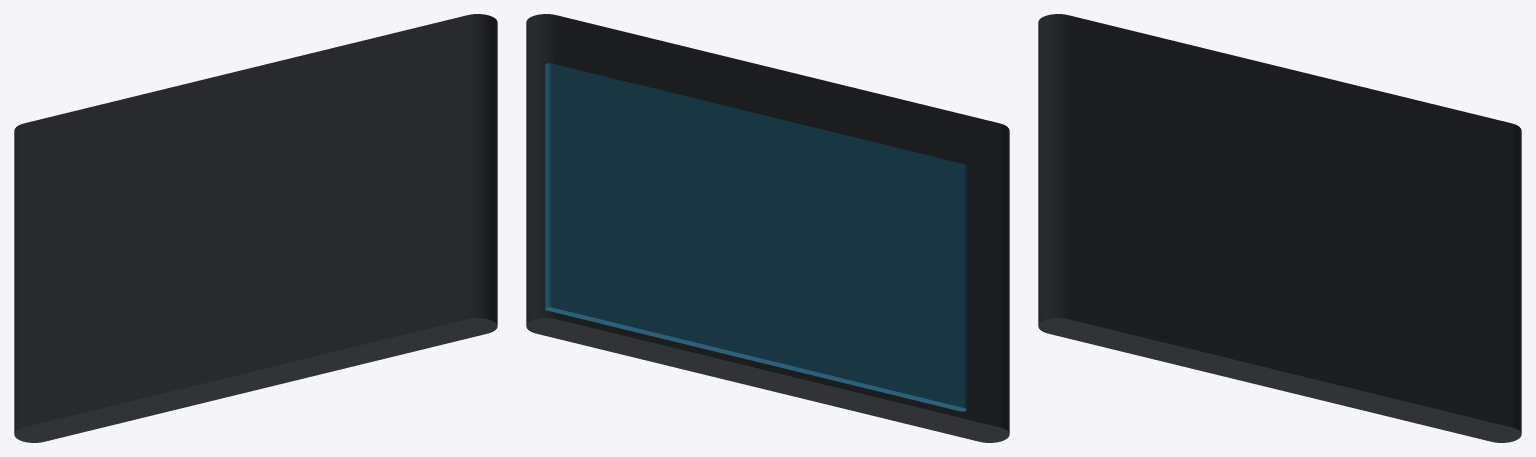
3 views of the same model, side by side, from view 1: azimuth 30°, elevation 25°; view 2: azimuth 150°, elevation 25°; view 3: azimuth 330°, elevation 25° (orthographic).
Parts seen in each view (by area): view 1: TVFrame; view 2: TVScreen, TVFrame; view 3: TVFrame.
Boxes of the visible parts, x1,y1,x2,y2 form: TVFrame: (14,14,497,442); TVScreen: (545,63,966,411); TVFrame: (526,14,1009,442); TVFrame: (1038,14,1521,442).
Size of the model in its own units: 1.25 by 0.76 by 0.11.
